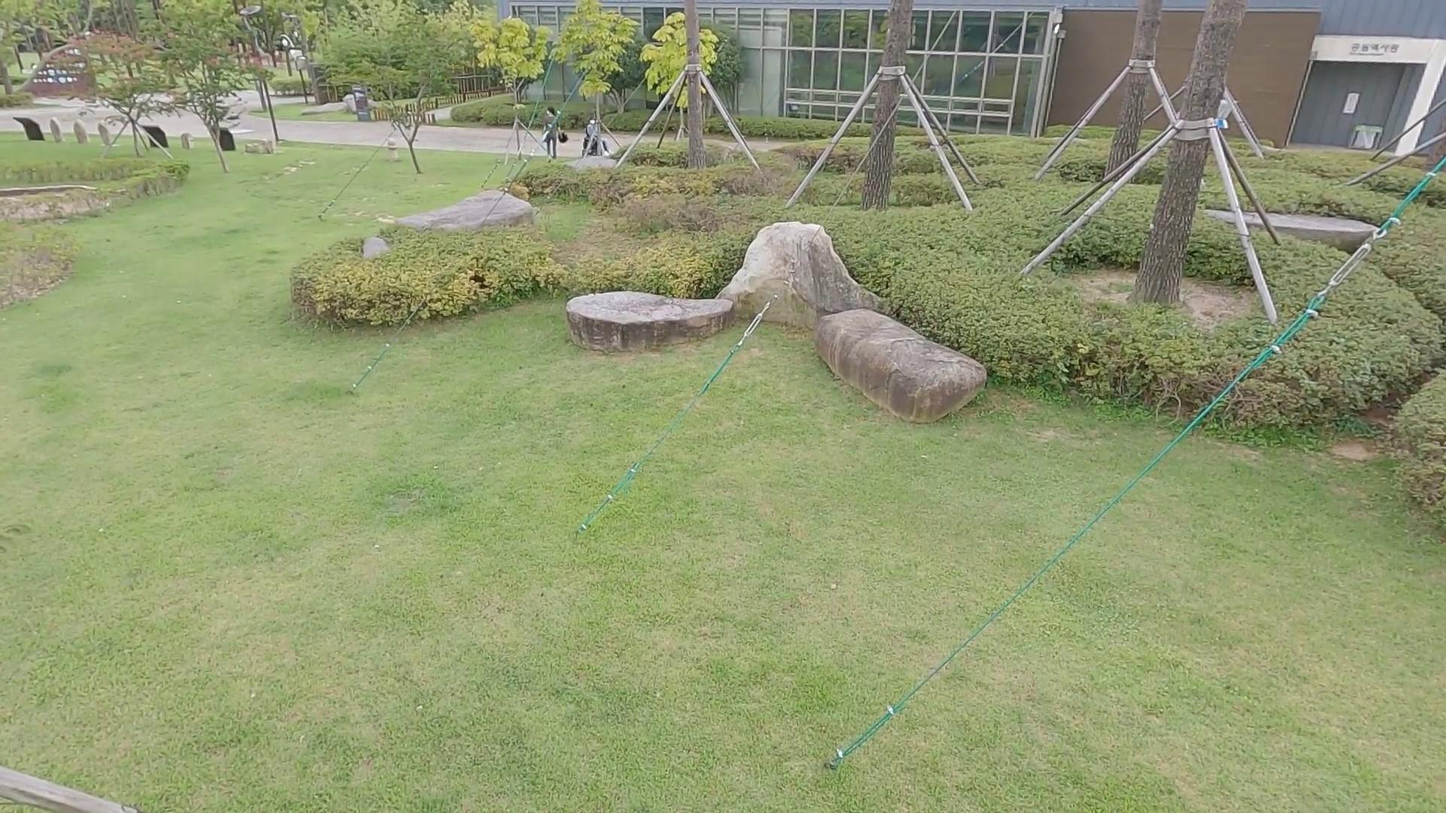person: (538, 101, 560, 163)
trash: (556, 132, 569, 139)
